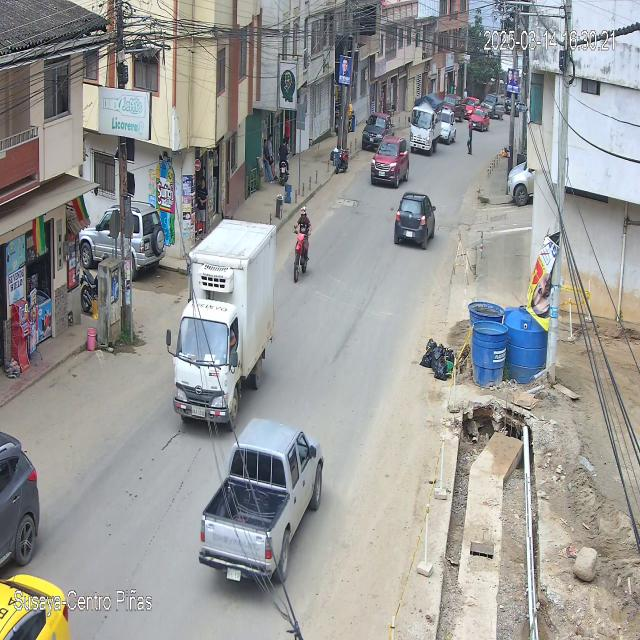CMT: (199, 419, 323, 593)
MOTORCYCLE: (292, 224, 310, 280)
SED: (394, 192, 429, 248)
TRUCK: (167, 219, 277, 436)
